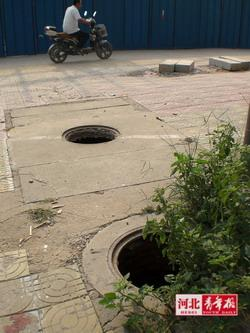lose: (87, 211, 228, 313), (56, 118, 127, 151)
